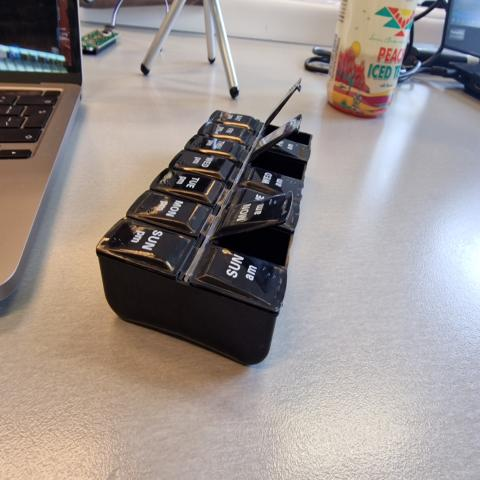Open: (208, 192, 298, 265), (265, 90, 314, 146), (254, 138, 306, 178)
